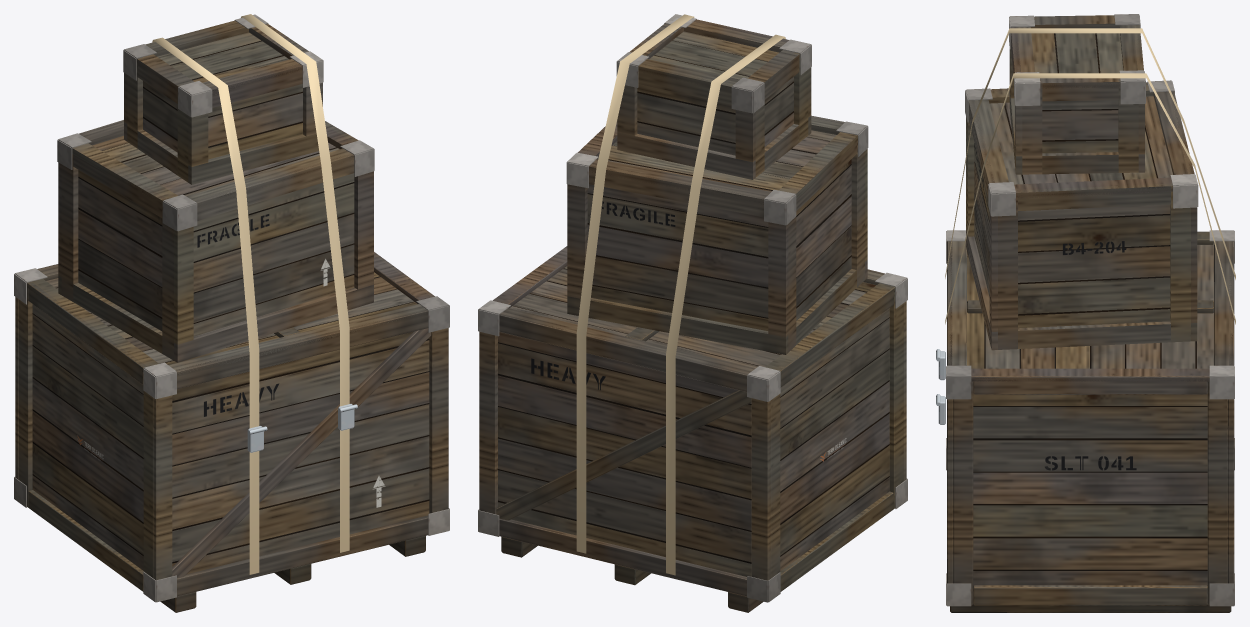
Rendered from crate_stack.glb.
3 renders of one model, left to right at view 1: azimuth 30°, elevation 25°; view 2: azimuth 150°, elevation 25°; view 3: azimuth 270°, elevation 25°, orthographic. The views are drawn at different scales.
Visible parts, largest first — view 1: crate_stack; view 2: crate_stack; view 3: crate_stack.
Part boxes in pixels (x1=…): crate_stack: x1=14, y1=14, x2=449, y2=612; crate_stack: x1=478, y1=14, x2=907, y2=612; crate_stack: x1=936, y1=14, x2=1235, y2=612.
Bounding box in the file's own units: 1.21 × 1.91 × 1.04.
Materials: 12 (12 with a texture image).
